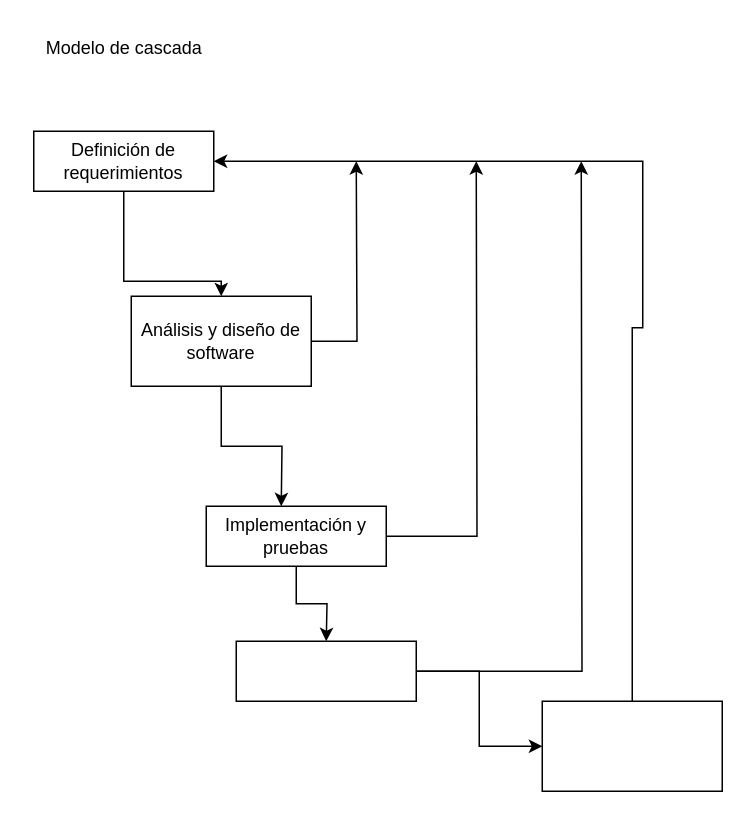
Image size: 749x818. Some labels were removed from this diagram. Each missing label, with the centre of its shape:
Integracion del sistema: (x=325, y=670)
Operacion y mantenimiento: (x=631, y=745)
